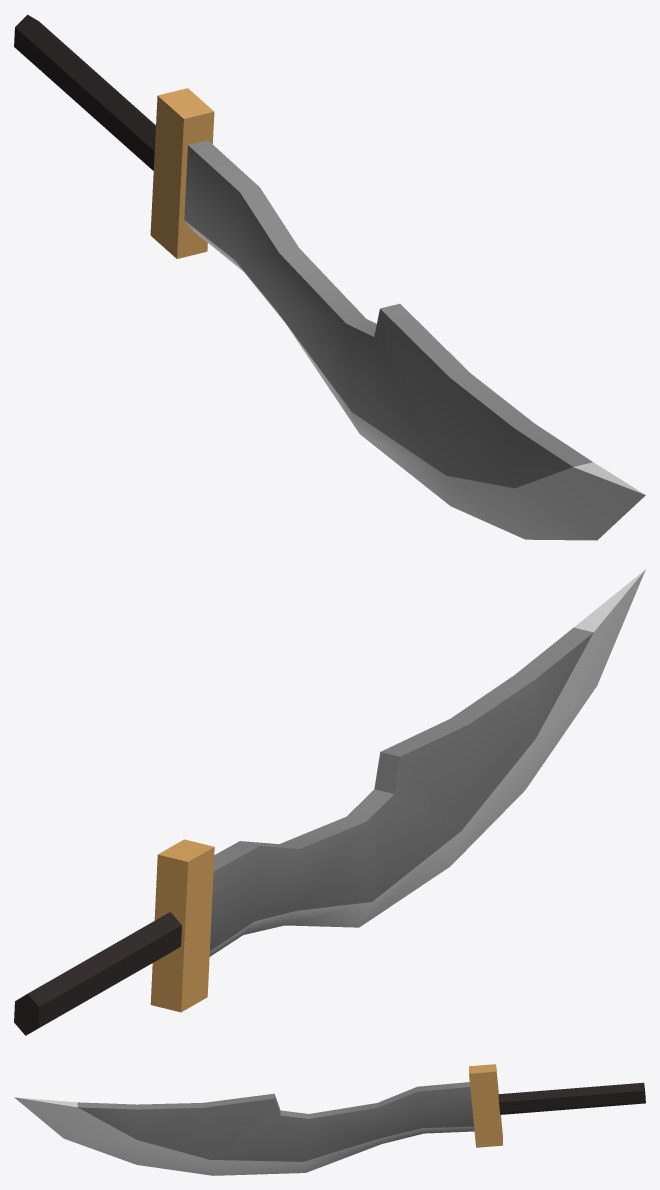
Rendered from W_Right_SinKnif.FBX.
The picture shows the model from 3 angles, top to bottom: view 1: azimuth 30°, elevation 25°; view 2: azimuth 150°, elevation 25°; view 3: azimuth 270°, elevation 25°; orthographic projection. The views are drawn at different scales.
Visible parts, largest first — view 1: Avata-D18-body-wuqi; view 2: Avata-D18-body-wuqi; view 3: Avata-D18-body-wuqi.
Part boxes in pixels (x1,y1,x2,y2): Avata-D18-body-wuqi: [14, 14, 645, 540]; Avata-D18-body-wuqi: [14, 569, 645, 1035]; Avata-D18-body-wuqi: [14, 1064, 645, 1175].
Size of the model in its own units: 0.0278 by 0.1845 by 0.9802.
